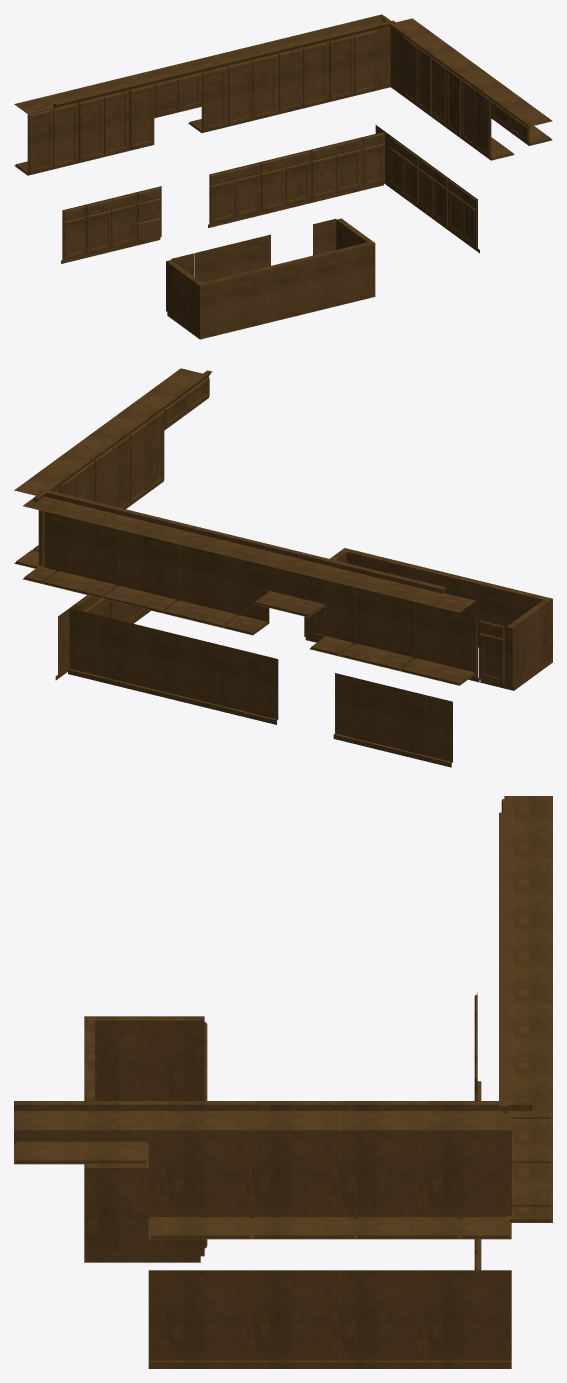
The model's file is cabinets_truffle.glb.
The picture shows the model from 3 angles, top to bottom: view 1: azimuth 30°, elevation 25°; view 2: azimuth 150°, elevation 25°; view 3: azimuth 270°, elevation 25°; orthographic projection. The views are drawn at different scales.
Parts seen in each view (by area): view 1: Cabinet_truffle.001; view 2: Cabinet_truffle.001; view 3: Cabinet_truffle.001.
Boxes of the visible parts, x1,y1,x2,y2 form: Cabinet_truffle.001: [14, 14, 552, 339]; Cabinet_truffle.001: [14, 368, 552, 767]; Cabinet_truffle.001: [14, 796, 552, 1368].
Bounding box in the file's own units: 7.63 × 2.93 × 5.2.
Materials: 1 (1 with a texture image).
